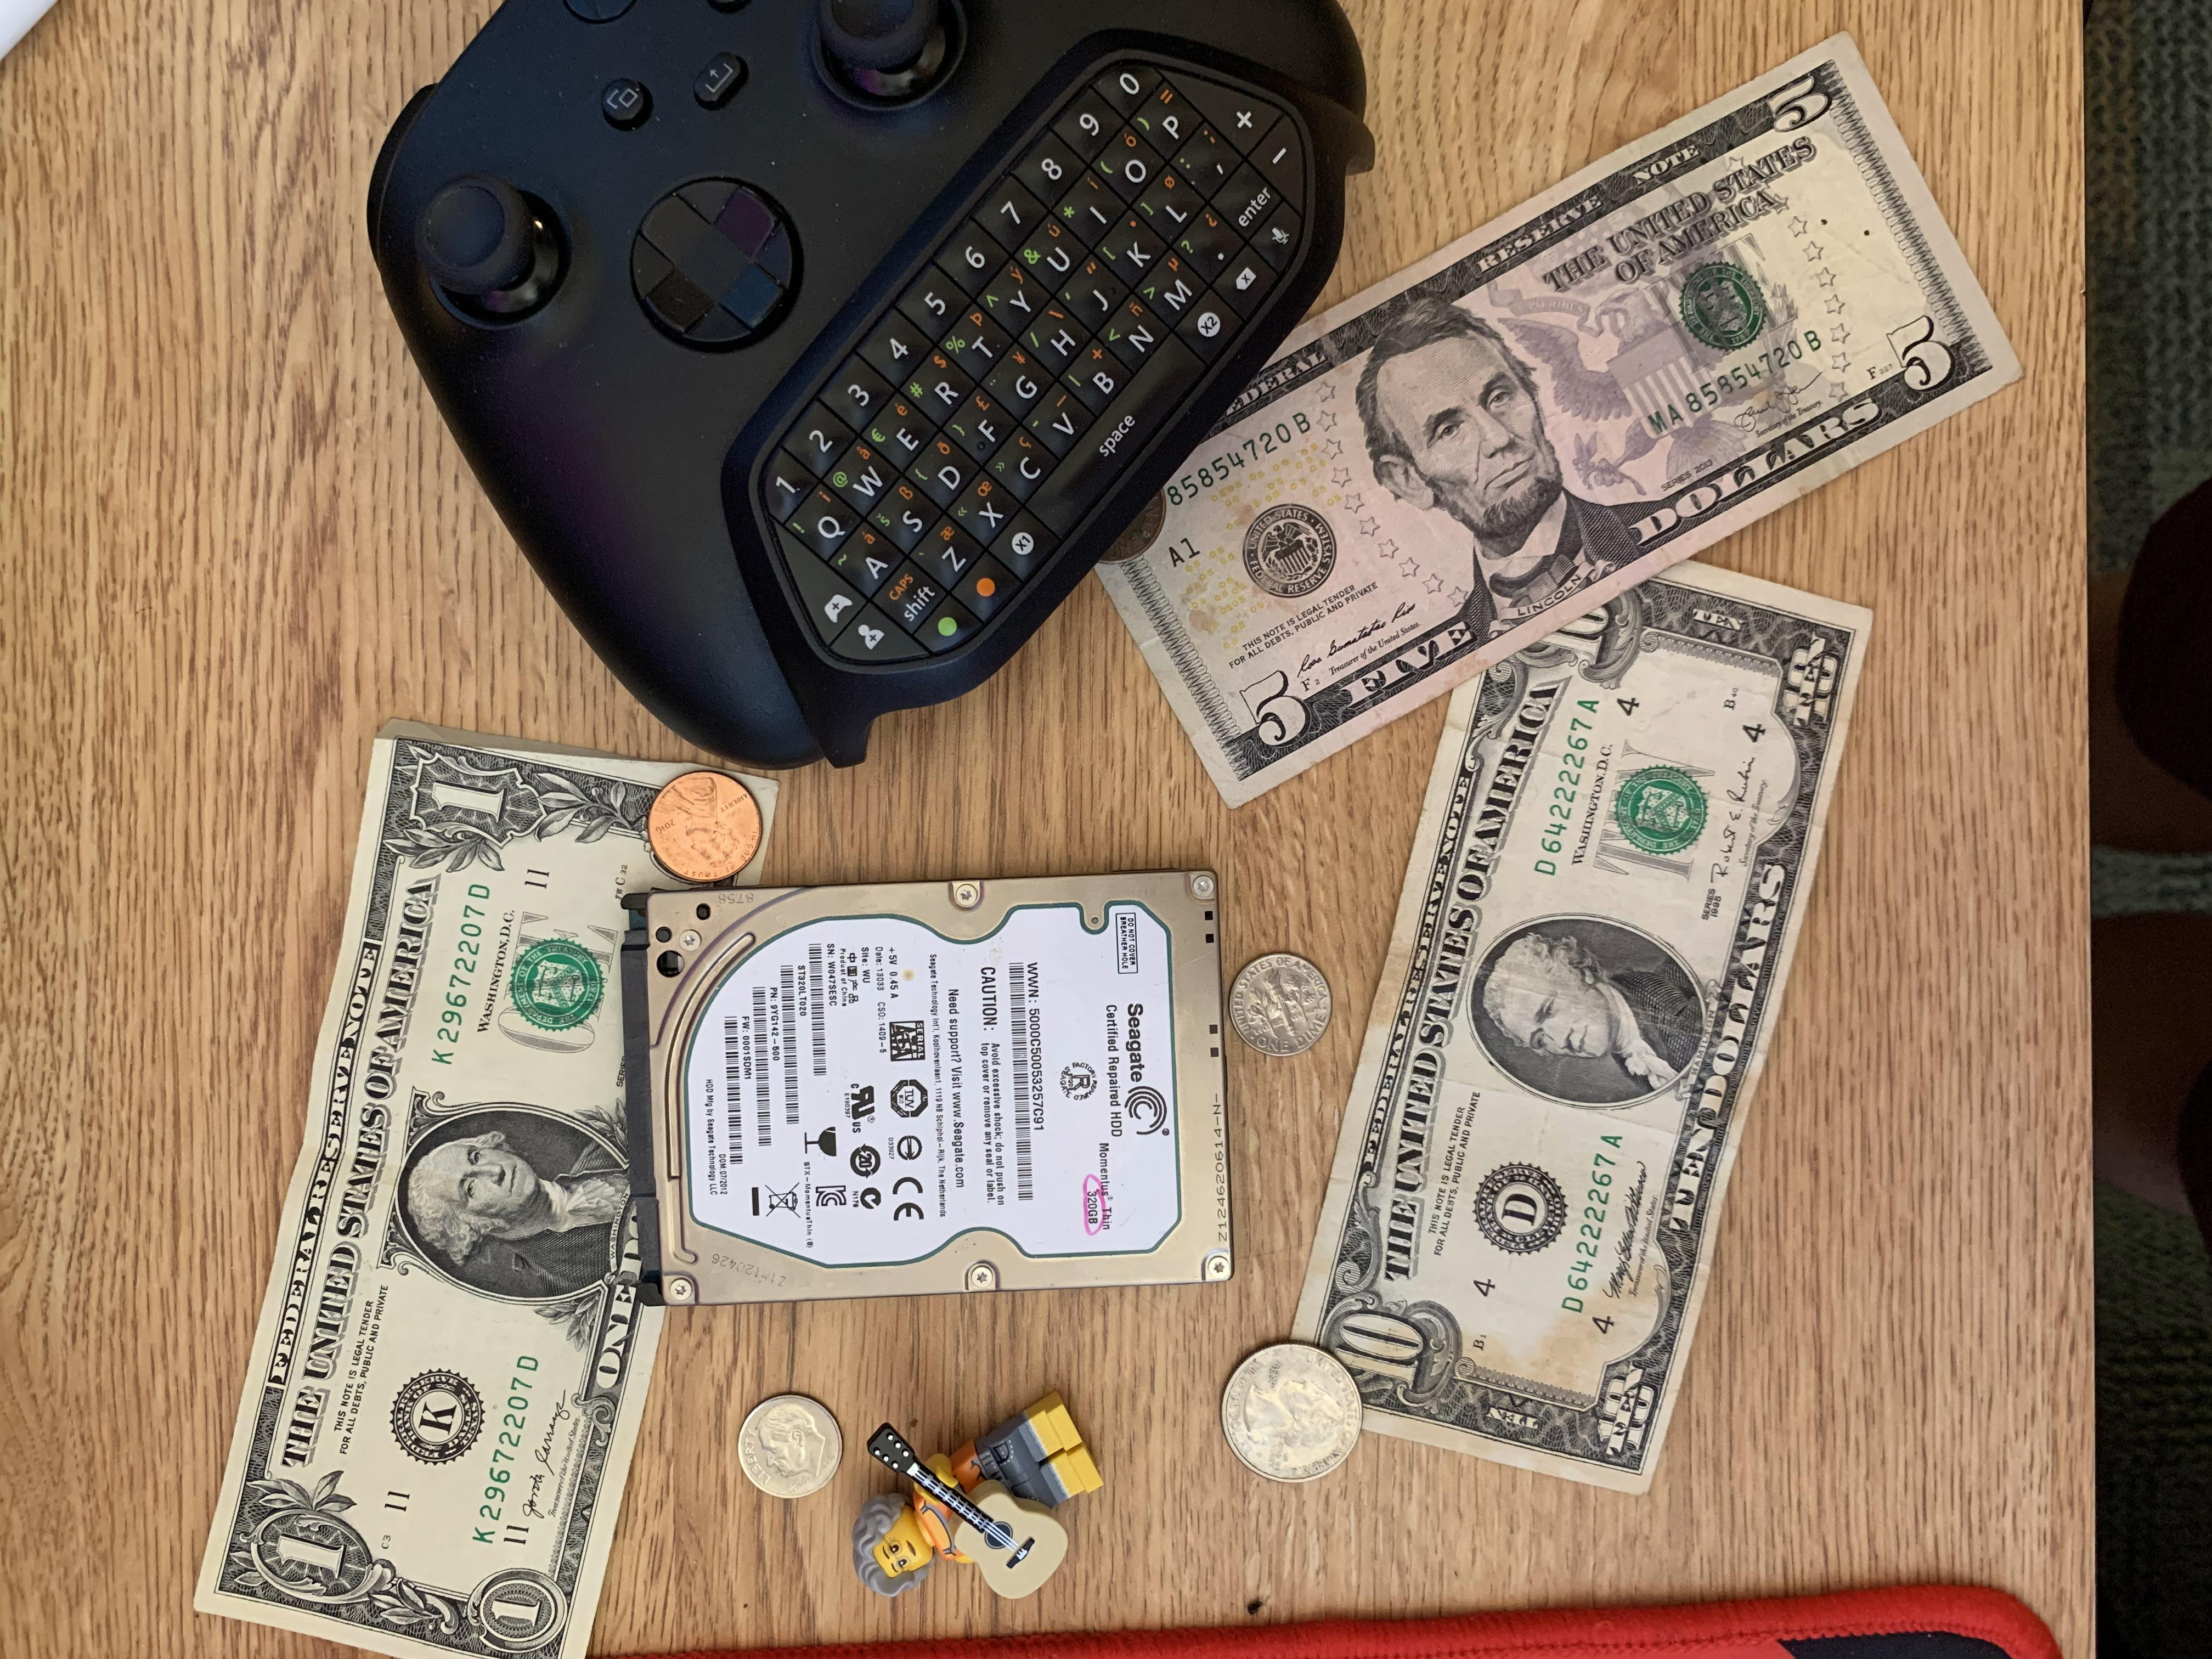Dime: (730, 1387, 846, 1502), (1228, 946, 1338, 1066)
FiveBill: (1089, 33, 2034, 812)
OneBill: (186, 720, 791, 1657)
Penny: (641, 767, 768, 884), (1089, 472, 1170, 565)
Quarter: (1219, 1335, 1366, 1490)
TenBill: (1284, 509, 1881, 1499)
